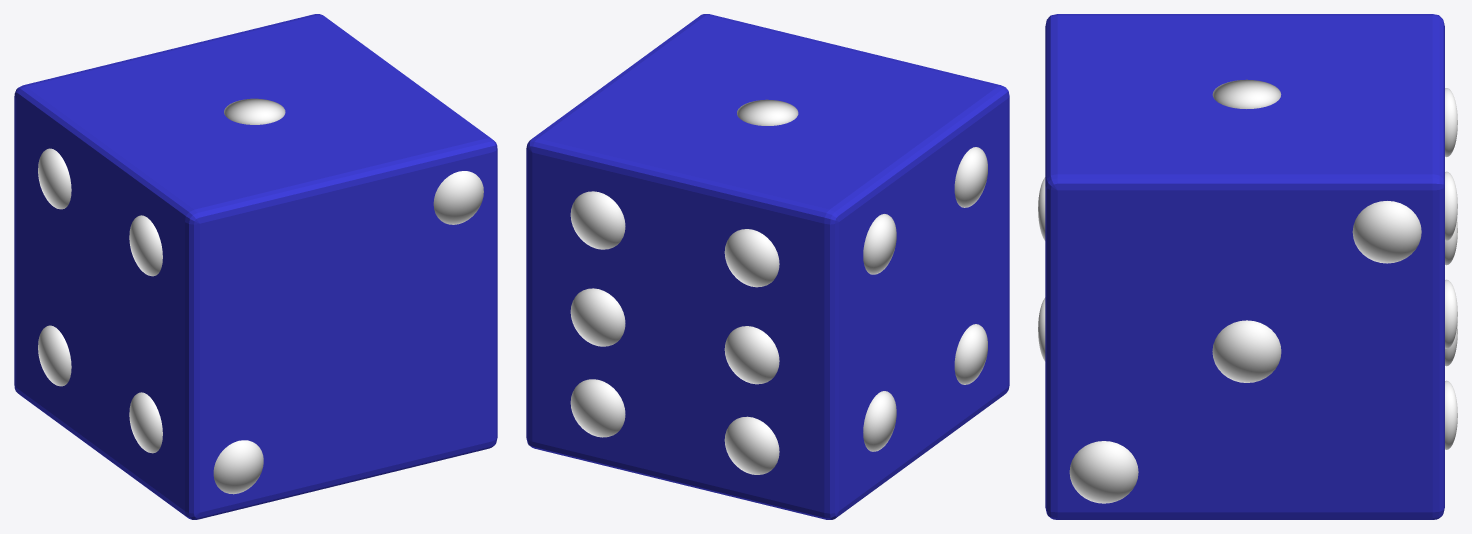
File: 05ebcbb1-76f5-4ea8-af66-3c9ad8409c4c.glb
3 renders of one model, left to right at view 1: azimuth 30°, elevation 25°; view 2: azimuth 150°, elevation 25°; view 3: azimuth 270°, elevation 25°, orthographic. The views are drawn at different scales.
Visible parts, largest first — view 1: Box001, Sphere005, Sphere003, Sphere017, Sphere018, Sphere016, Sphere015, Sphere002; view 2: Box001, Sphere010, Sphere009, Sphere011, Sphere014, Sphere012, Sphere013, Sphere015, Sphere016, Sphere017, Sphere018, Sphere002; view 3: Box001, Sphere006, Sphere008, Sphere007, Sphere002, Sphere009, Sphere013, Sphere010, Sphere011.
Boxes of the visible parts, x1,y1,x2,y2 form: Box001: [14, 14, 497, 519]; Sphere005: [213, 440, 263, 494]; Sphere003: [433, 171, 483, 224]; Sphere017: [129, 392, 162, 453]; Sphere018: [129, 215, 162, 276]; Sphere016: [38, 148, 71, 209]; Sphere015: [38, 325, 71, 386]; Sphere002: [224, 98, 285, 124]; Box001: [526, 14, 1009, 519]; Sphere010: [570, 379, 625, 437]; Sphere009: [570, 191, 625, 249]; Sphere011: [570, 288, 625, 346]; Sphere014: [724, 416, 779, 474]; Sphere012: [724, 326, 779, 384]; Sphere013: [724, 229, 779, 287]; Sphere015: [863, 391, 896, 451]; Sphere016: [863, 214, 896, 274]; Sphere017: [954, 324, 987, 384]; Sphere018: [954, 147, 987, 207]; Sphere002: [737, 99, 798, 125]; Box001: [1045, 14, 1444, 519]; Sphere006: [1069, 441, 1138, 503]; Sphere008: [1212, 320, 1281, 382]; Sphere007: [1352, 201, 1421, 263]; Sphere002: [1212, 79, 1281, 108]; Sphere009: [1445, 171, 1457, 240]; Sphere013: [1445, 88, 1457, 157]; Sphere010: [1445, 380, 1457, 449]; Sphere011: [1445, 279, 1457, 348].
Size of the model in its own units: 229078 by 216183 by 228140.
